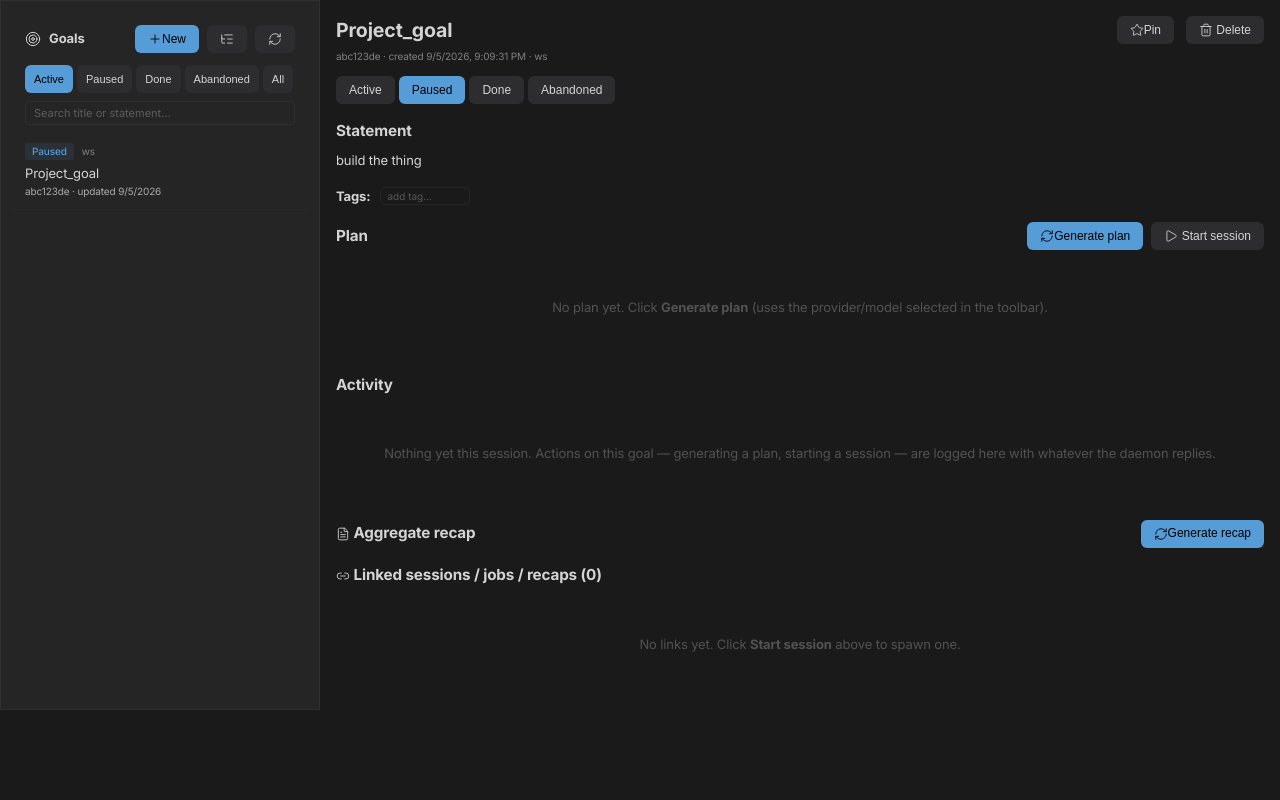
GoalPanel activity log › logs a successful plan with its step count
Check: the text "build the thing" is shown, box [336,152,422,168]
Click the button "Generate plan" at (1085,236), box [1027,222,1143,250]
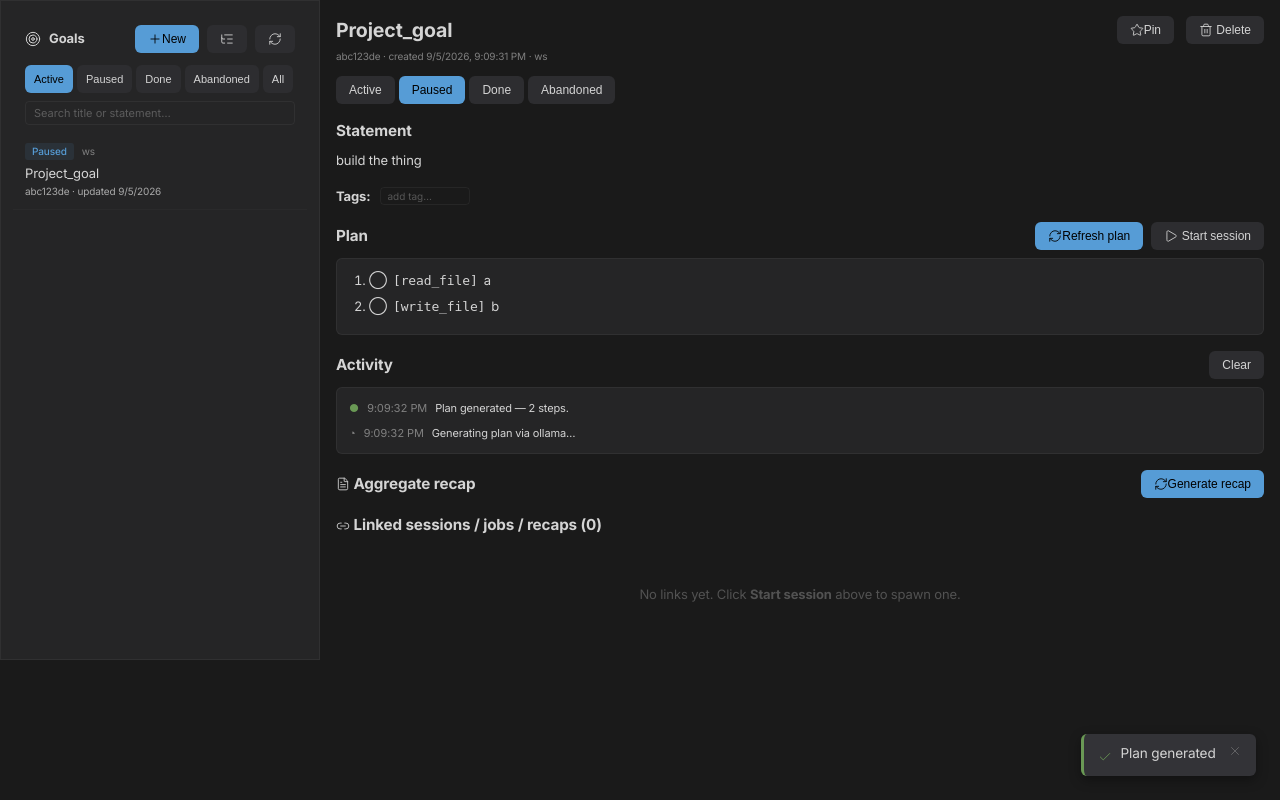
Check: the text "Plan generated — 2 steps." is shown, box [435,400,569,416]
